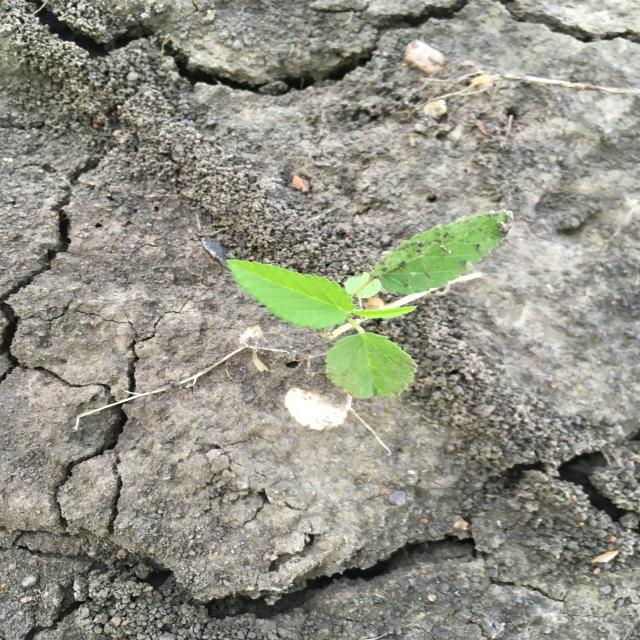PricklySida: (221, 207, 518, 402)
